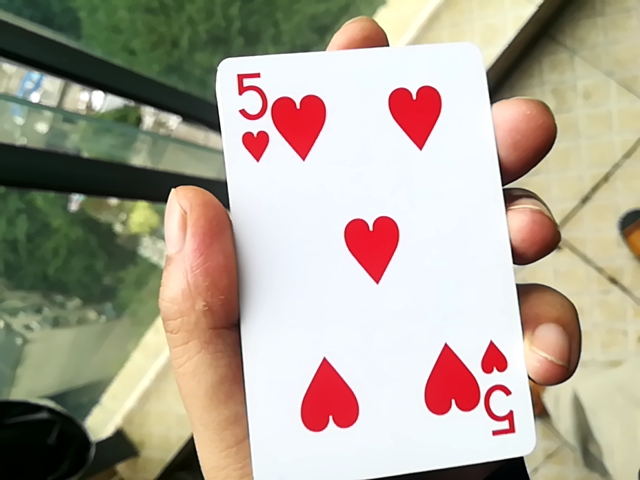hx 5: (202, 46, 543, 479)
